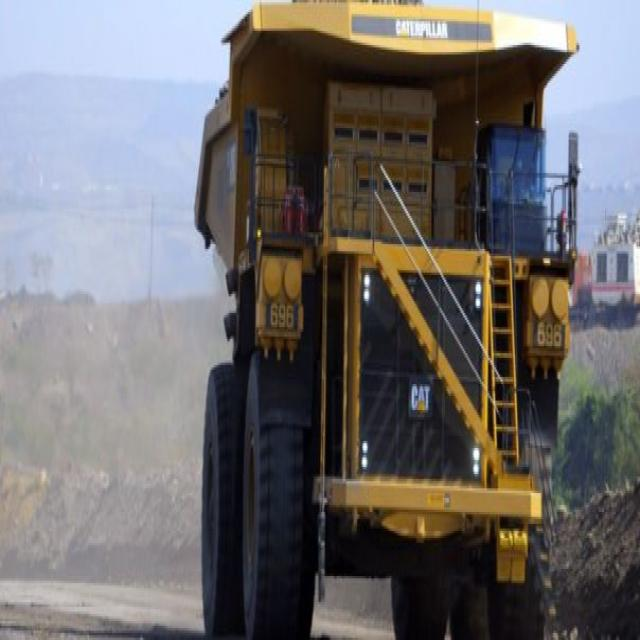dump_truck: (187, 5, 570, 638)
